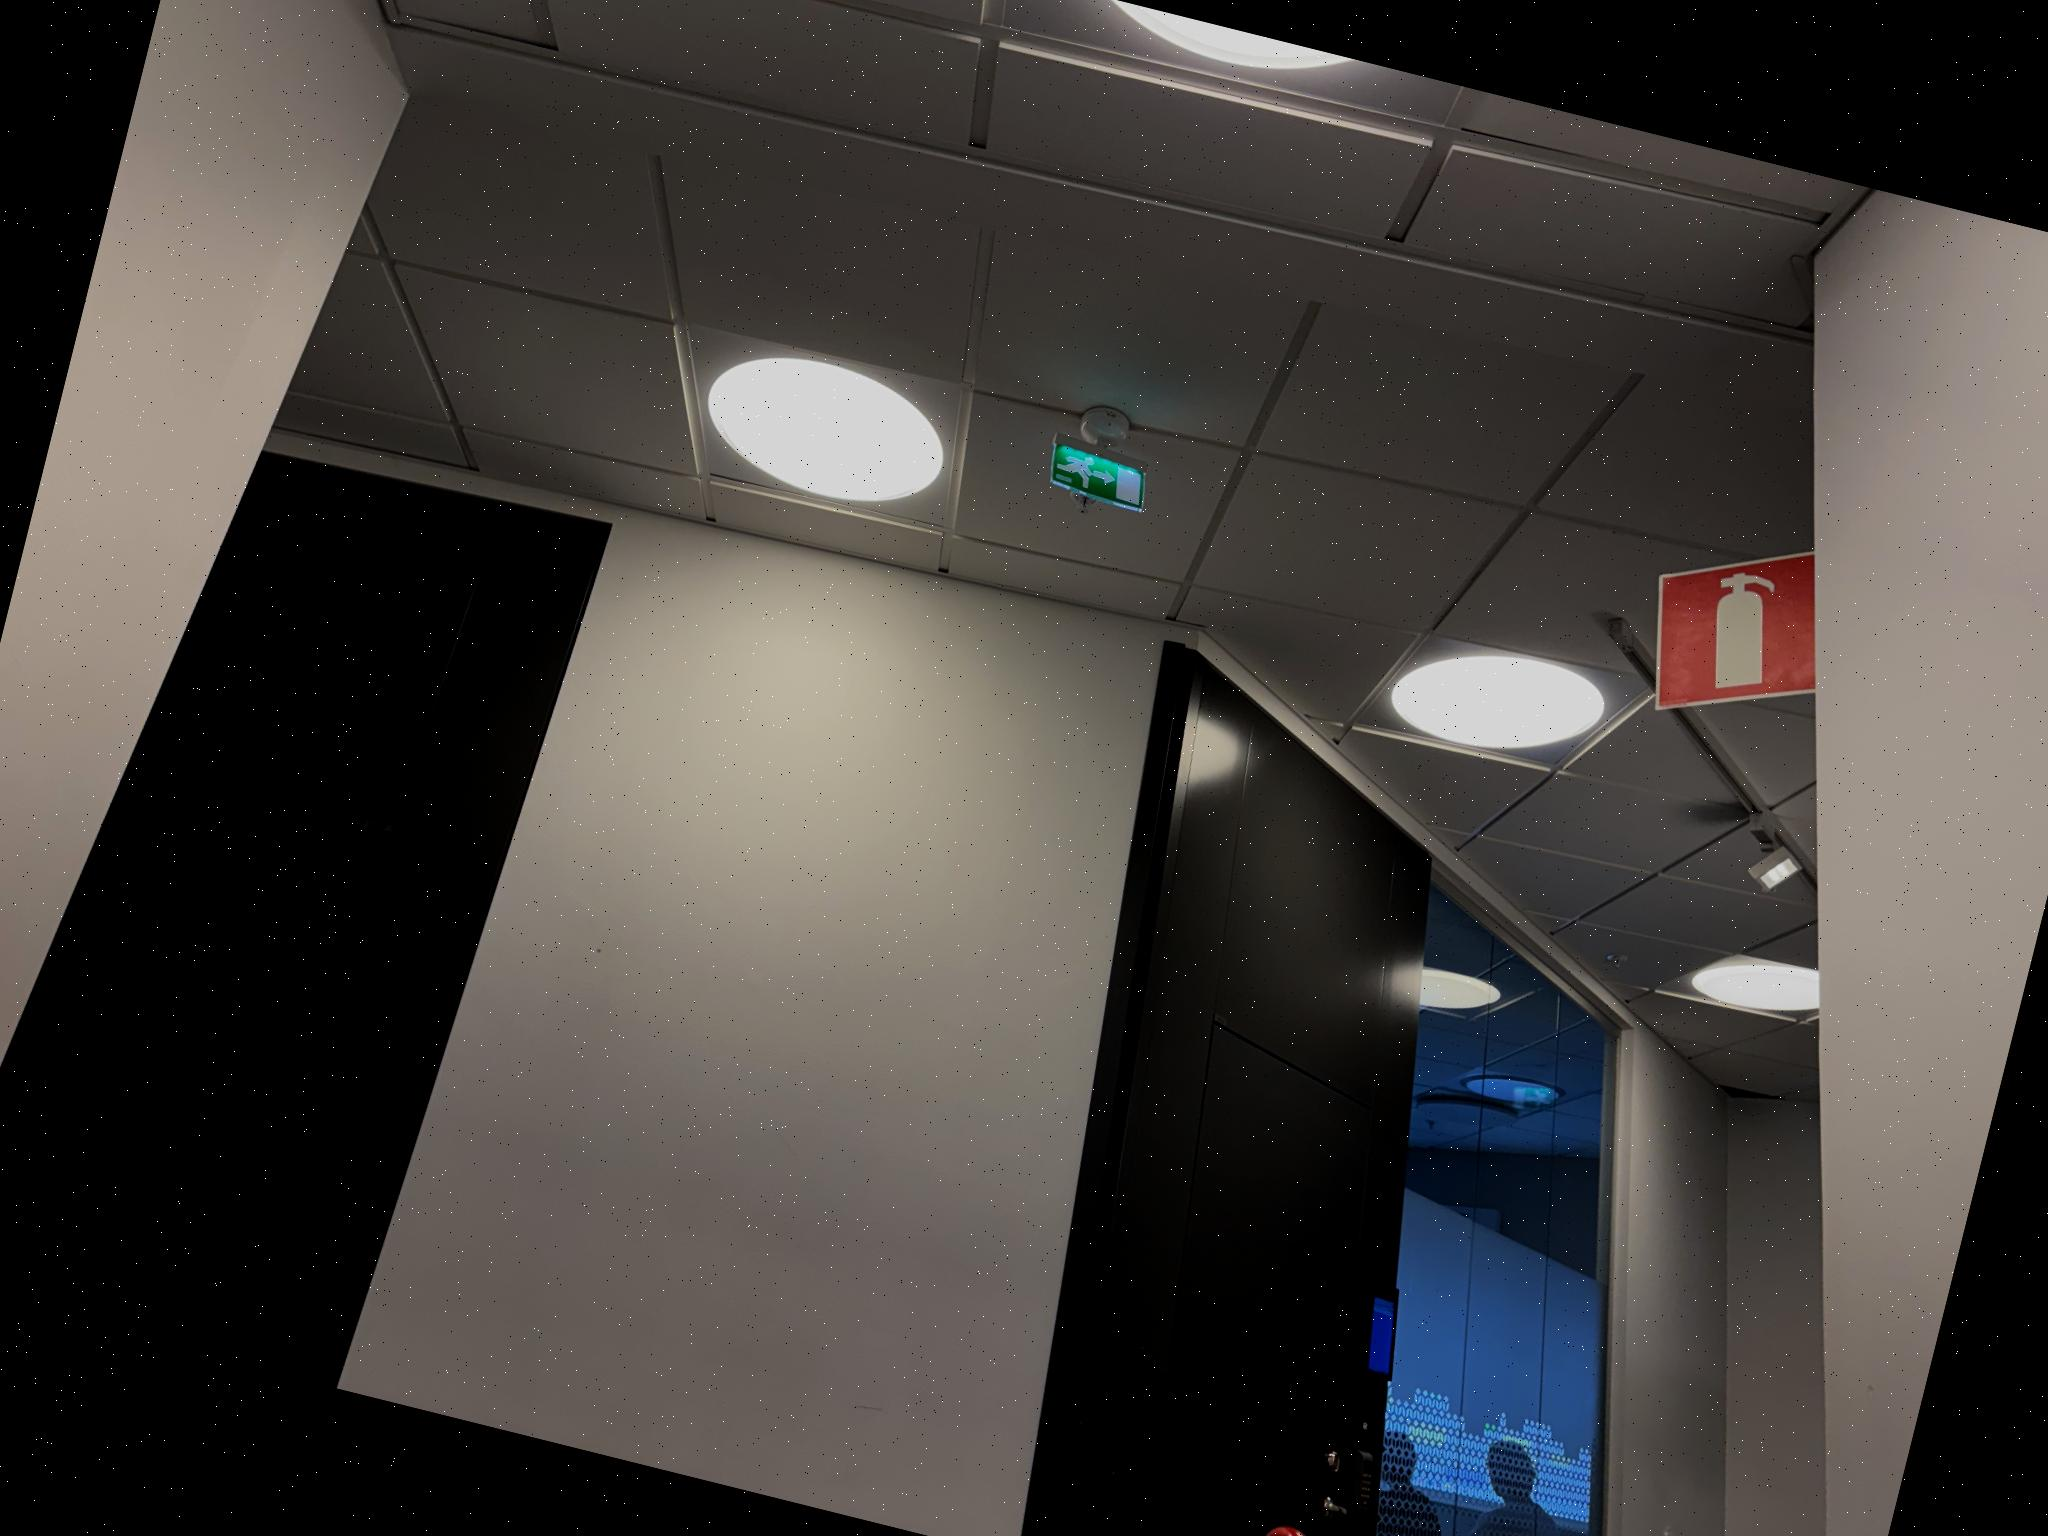exit_sign: (1045, 445, 1148, 508)
